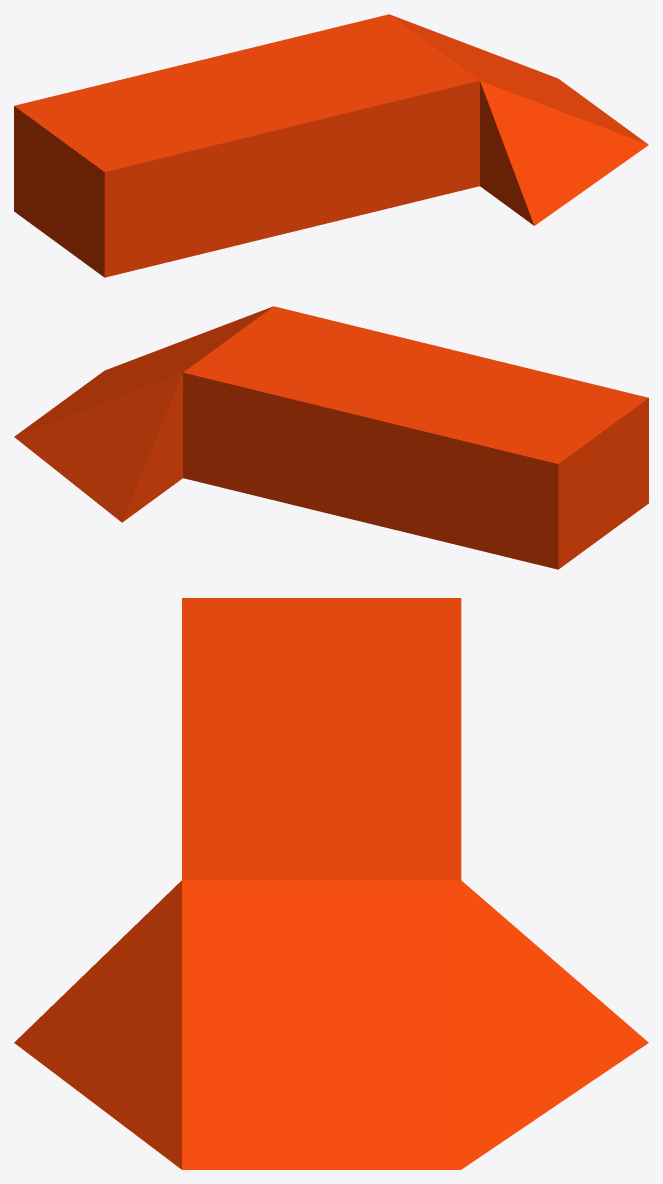
The model's file is fpga_racecar_model.glb.
3 renders of one model, top to bottom at view 1: azimuth 30°, elevation 25°; view 2: azimuth 150°, elevation 25°; view 3: azimuth 270°, elevation 25°, orthographic. The views are drawn at different scales.
Visible parts, largest first — view 1: Cube; view 2: Cube; view 3: Cube.
Part boxes in pixels (x1,y1,x2,y2): Cube: (14,14,648,277); Cube: (14,306,648,569); Cube: (14,598,648,1169).
Size of the model in its own units: 6.93 by 1.28 by 4.55.
